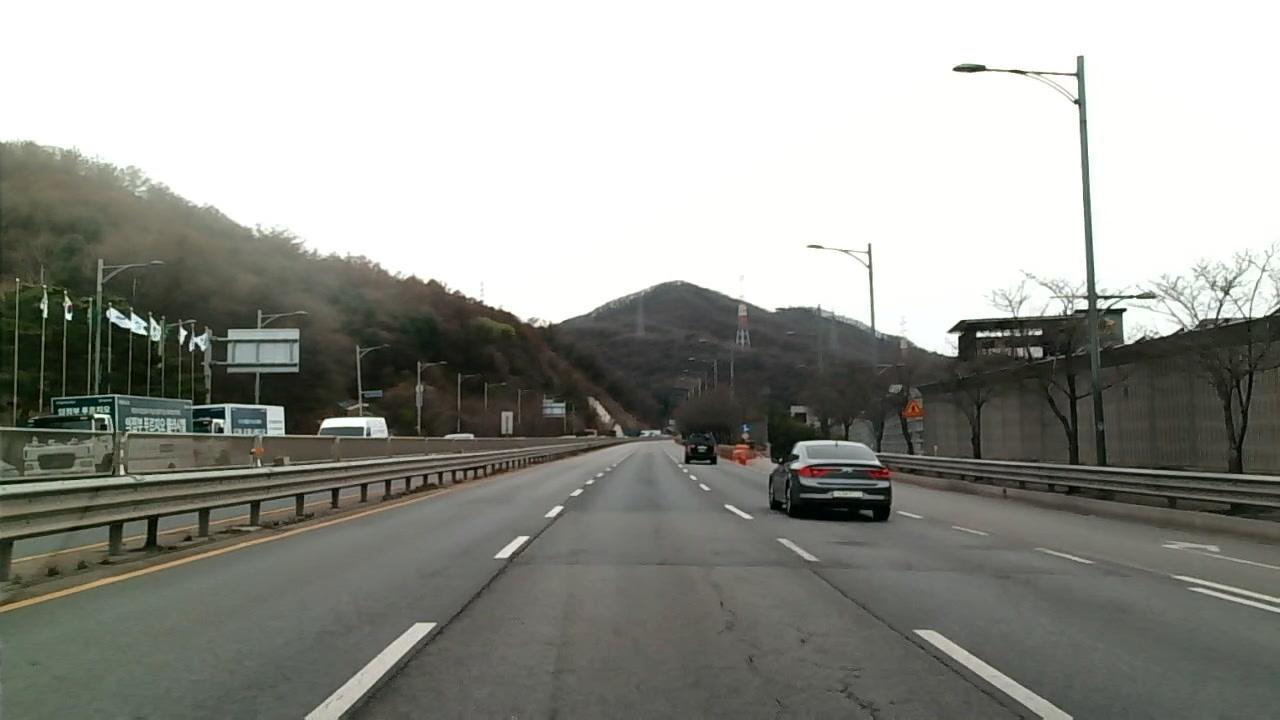banner: (341, 512, 562, 720), (809, 564, 1023, 716), (832, 661, 878, 718), (715, 593, 743, 636)
